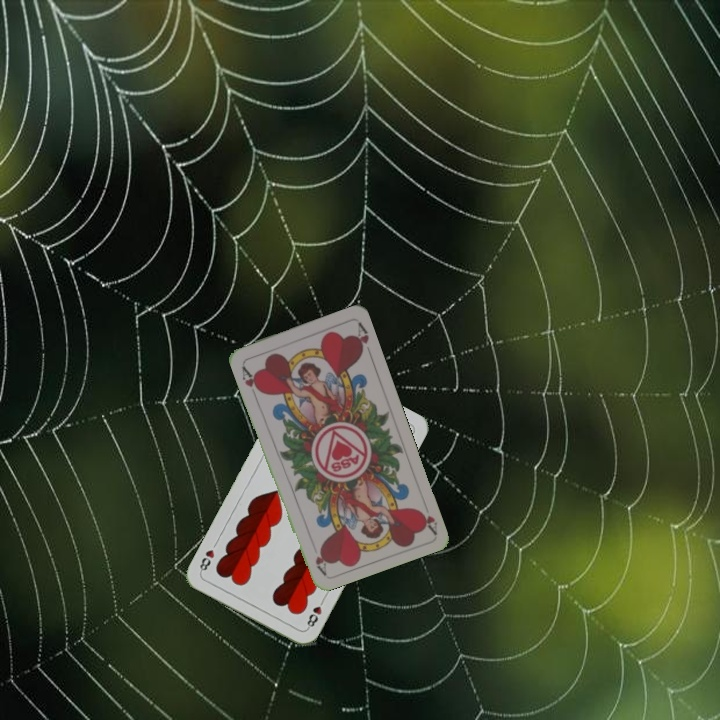H8: (303, 594, 327, 632)
HA: (414, 496, 440, 536), (238, 362, 264, 400)
